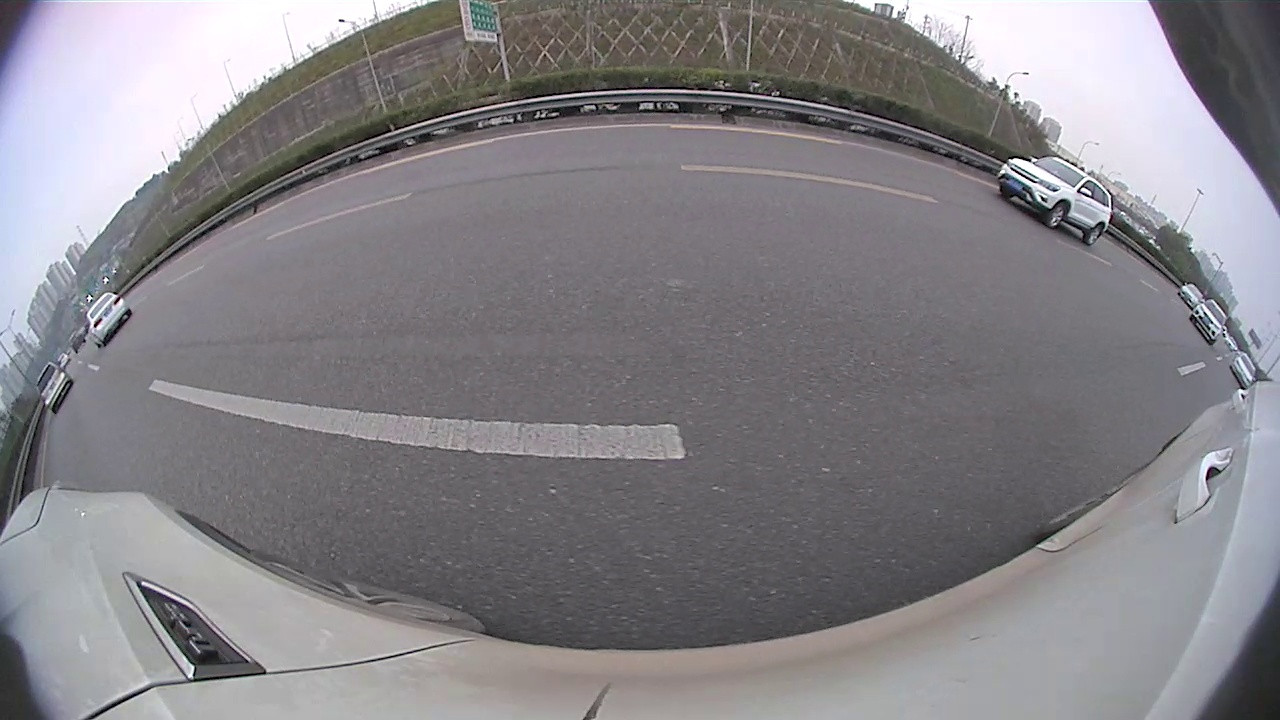car: (1, 181, 385, 510), (571, 104, 802, 260), (1040, 242, 1271, 327), (889, 179, 1058, 264), (797, 150, 899, 227), (481, 157, 568, 211)
front: (316, 230, 376, 307), (889, 197, 906, 223)
rear: (25, 419, 115, 518), (971, 220, 999, 255), (798, 183, 817, 219), (544, 181, 552, 205)
rider: (991, 126, 1279, 508)
